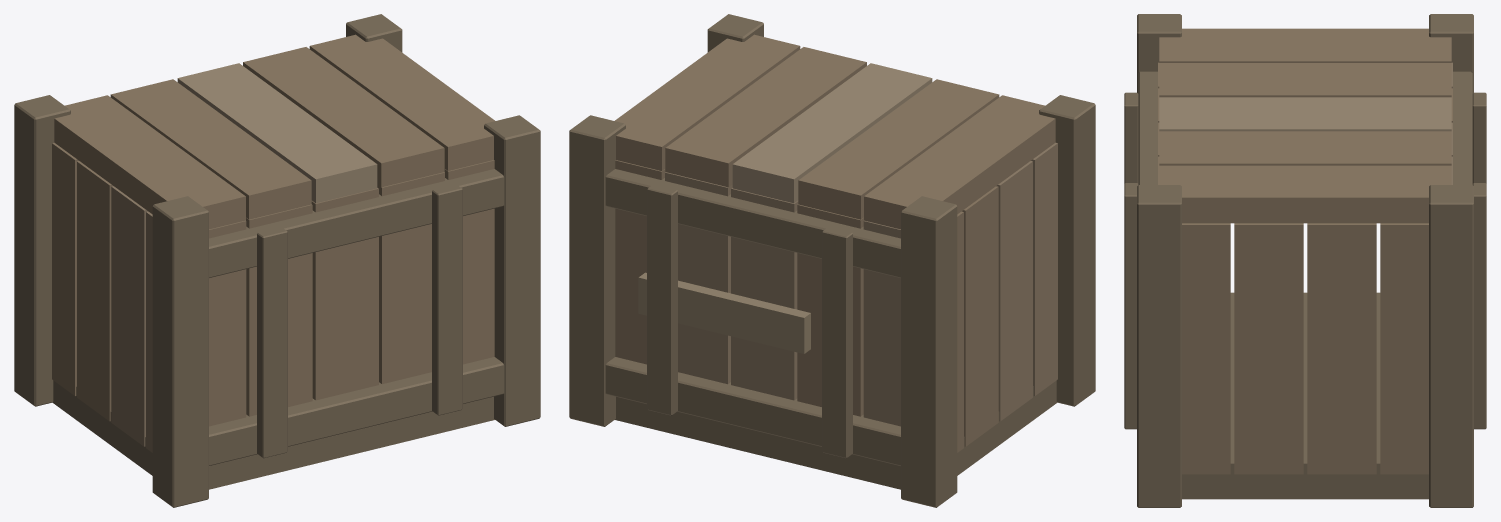
File: env_crate_v04_vertical_battens.glb
3 renders of one model, left to right at view 1: azimuth 30°, elevation 25°; view 2: azimuth 150°, elevation 25°; view 3: azimuth 270°, elevation 25°, orthographic. The views are drawn at different scales.
Parts seen in each view (by area): view 1: material_0, material_2, material_1, material_5; view 2: material_2, material_0, material_5, material_1, material_6; view 3: material_0, material_2, material_1.
Boxes of the visible parts, box(x1,y1,x2,y2) form: material_0: box(52, 34, 494, 466); material_2: box(14, 14, 540, 507); material_1: box(177, 63, 377, 203); material_5: box(111, 186, 152, 452); material_2: box(569, 14, 1095, 507); material_0: box(615, 34, 1055, 456); material_5: box(665, 142, 1057, 466); material_1: box(732, 63, 932, 203); material_6: box(638, 272, 810, 353); material_0: box(1158, 28, 1452, 474); material_2: box(1124, 14, 1486, 507); material_1: box(1159, 97, 1451, 131).
Bounding box in the file's own units: 0.8 × 0.6 × 0.645.
